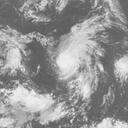cyclone: (50, 32, 99, 78)
